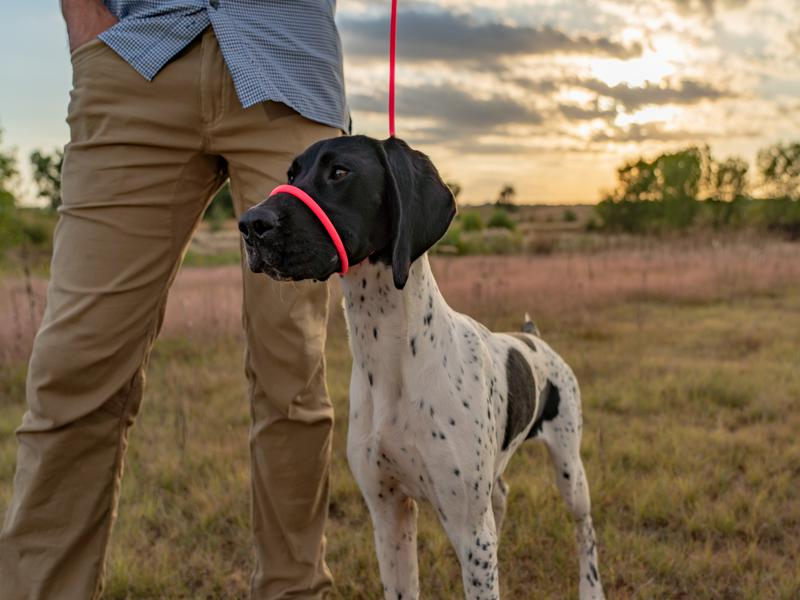dog_stand: (234, 127, 614, 599)
